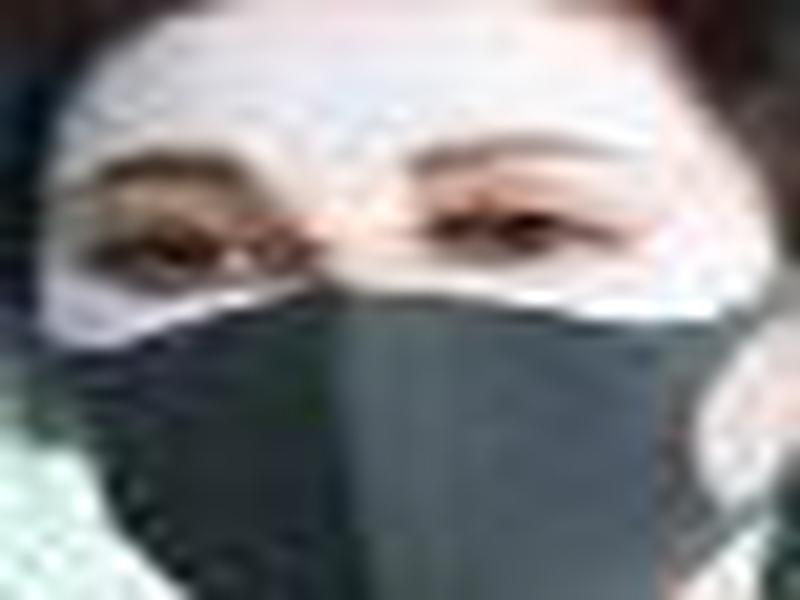with_mask: (26, 5, 797, 600)
